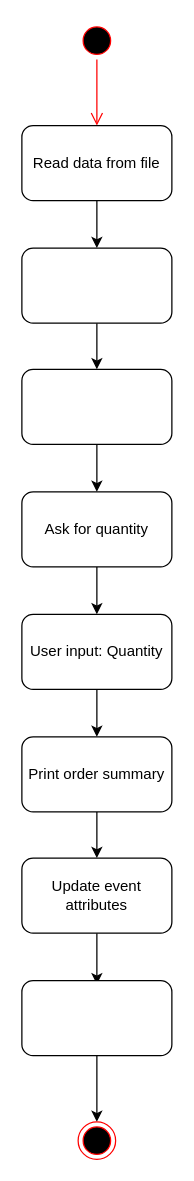
The diagram is 194 pixels wide and 1181 high, and some of its shapes have lost their labels. The centre of each missing label's shape, as x and y in pixels:
"List available Events and Attributes" goes at point (96, 285).
"User input: Event" goes at point (96, 406).
"Write data to file" goes at point (96, 1017).
